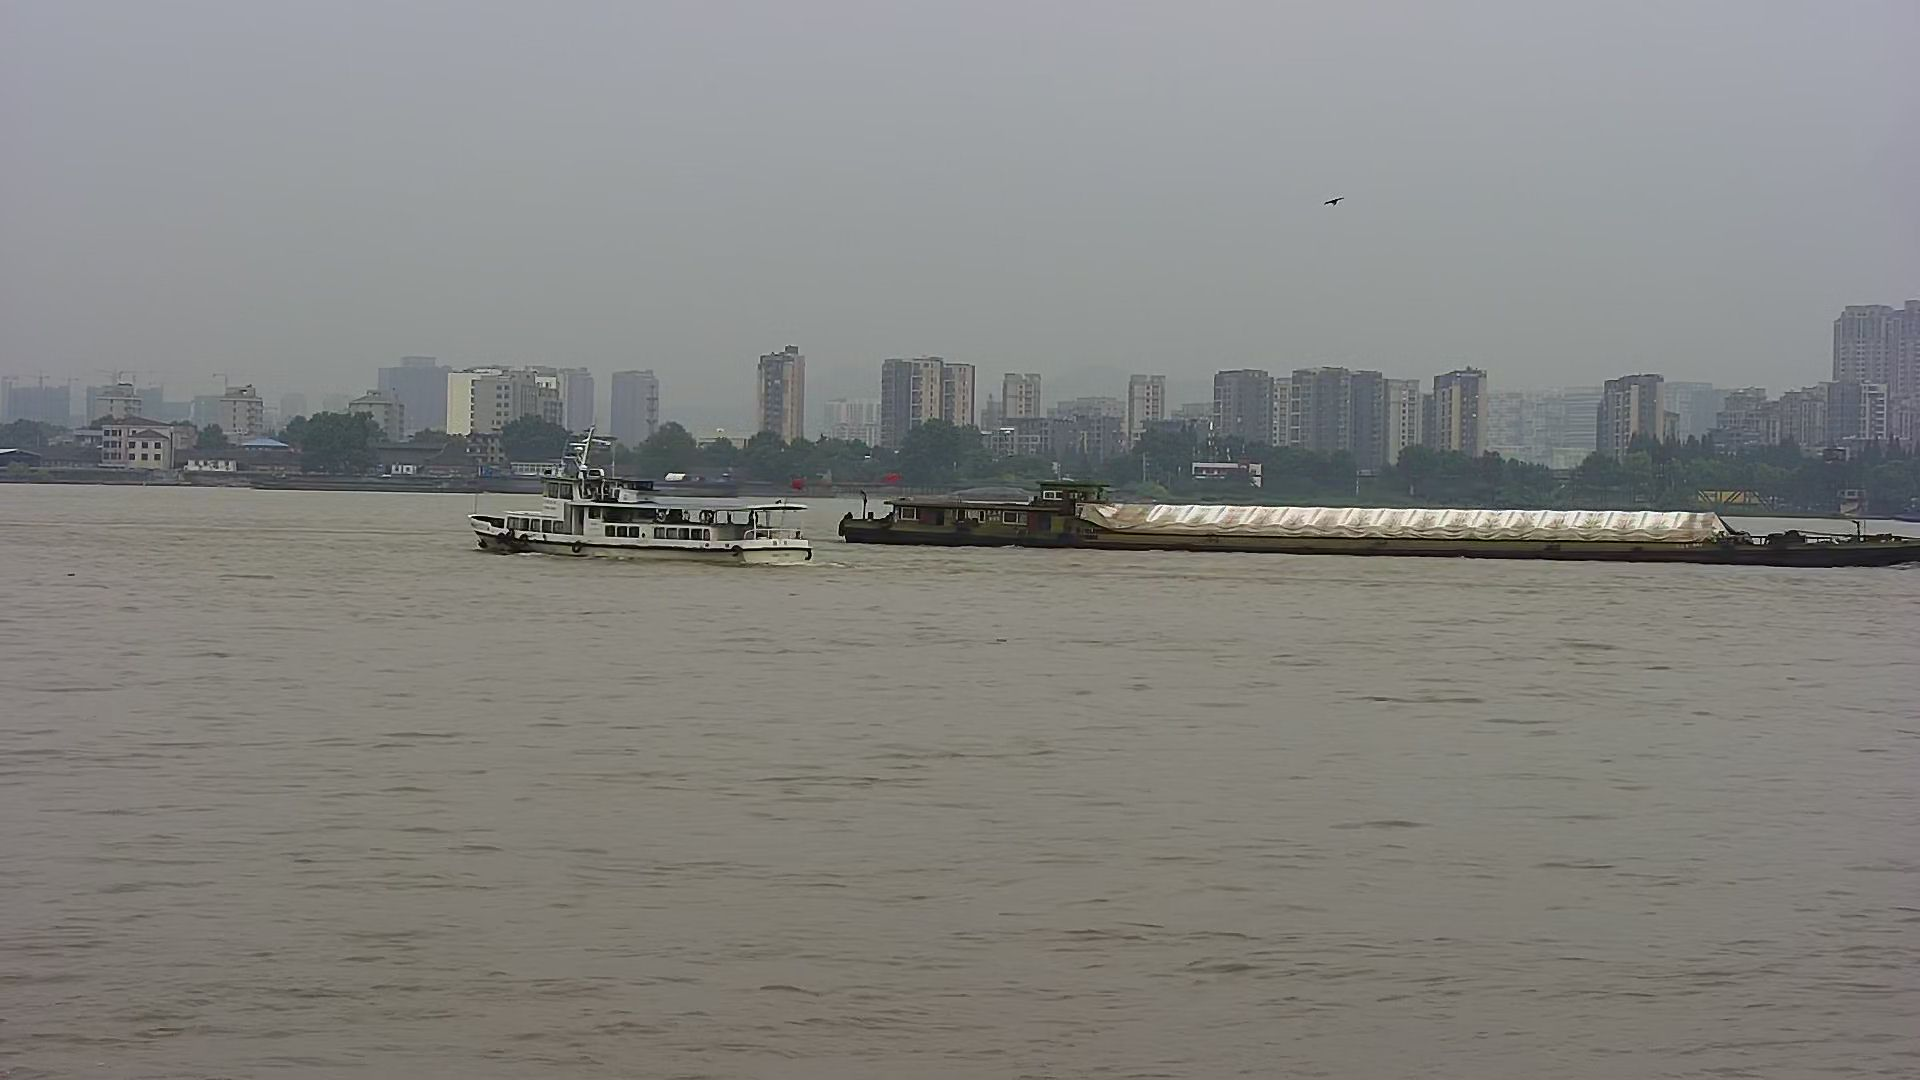ship: (829, 468, 1920, 567), (462, 431, 825, 578)
